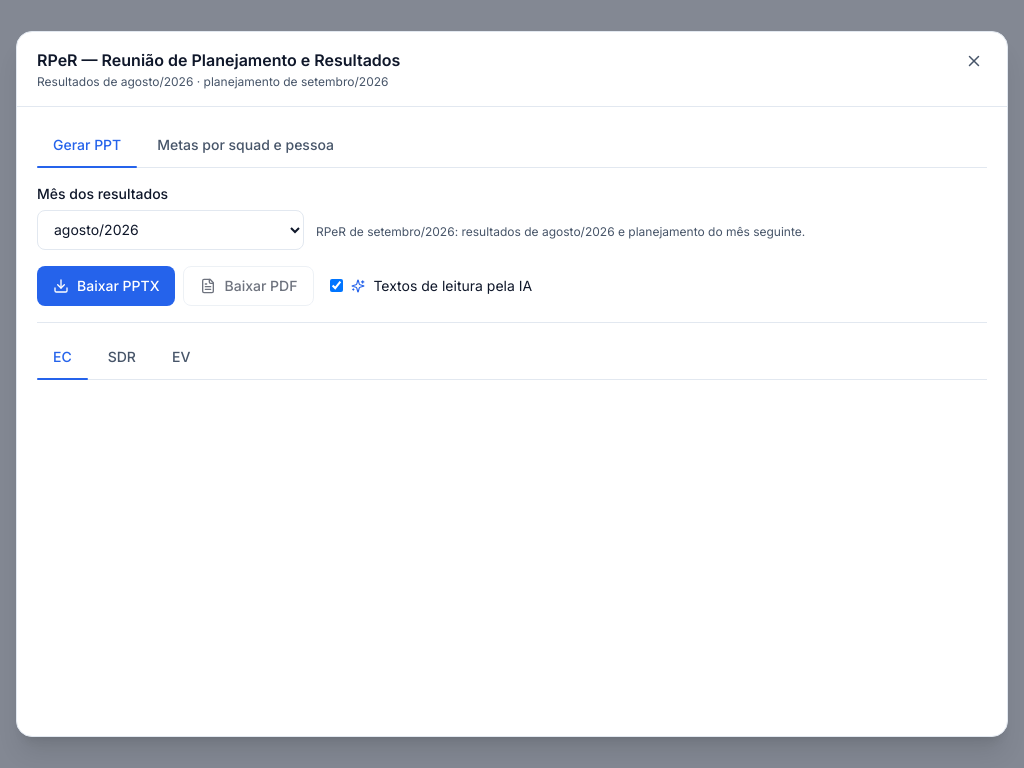
Scenario: RperMonitor — Metas › campo inválido trava o salvar
The image size is (1024, 768).
Click the tab with test id "tab-metas".
click(246, 145)  # box [141,123,350,167]
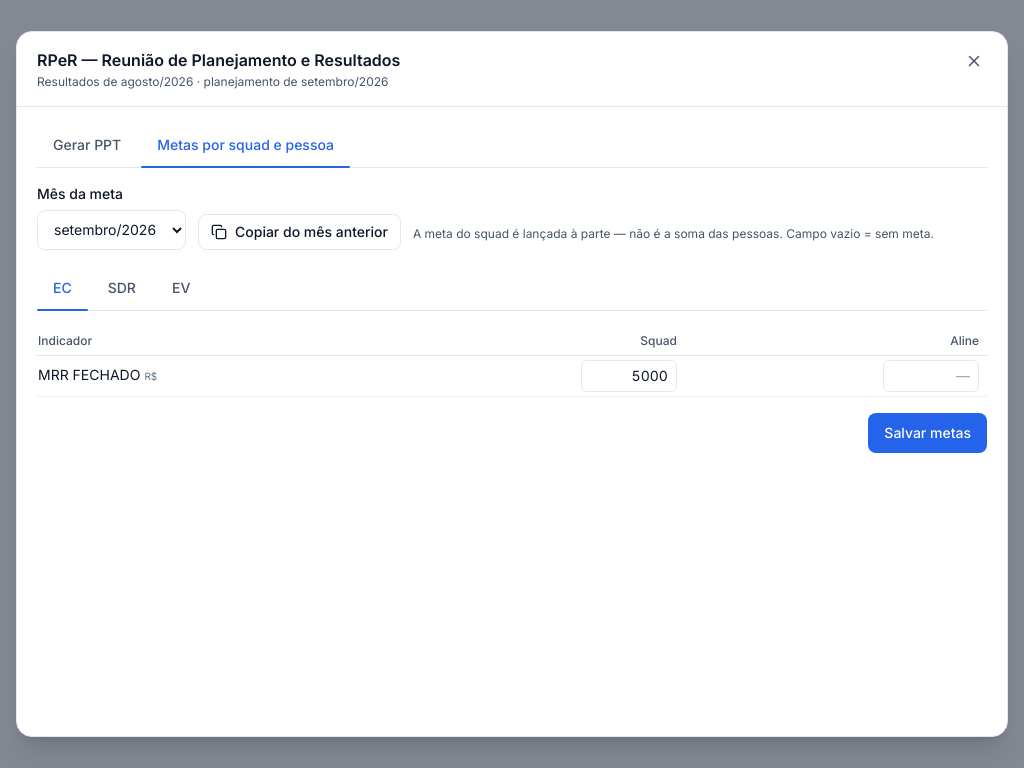
Replace the text in the field named "MRR FECHADO — squad" with "muito" at point(629, 376), box [581,360,677,392]
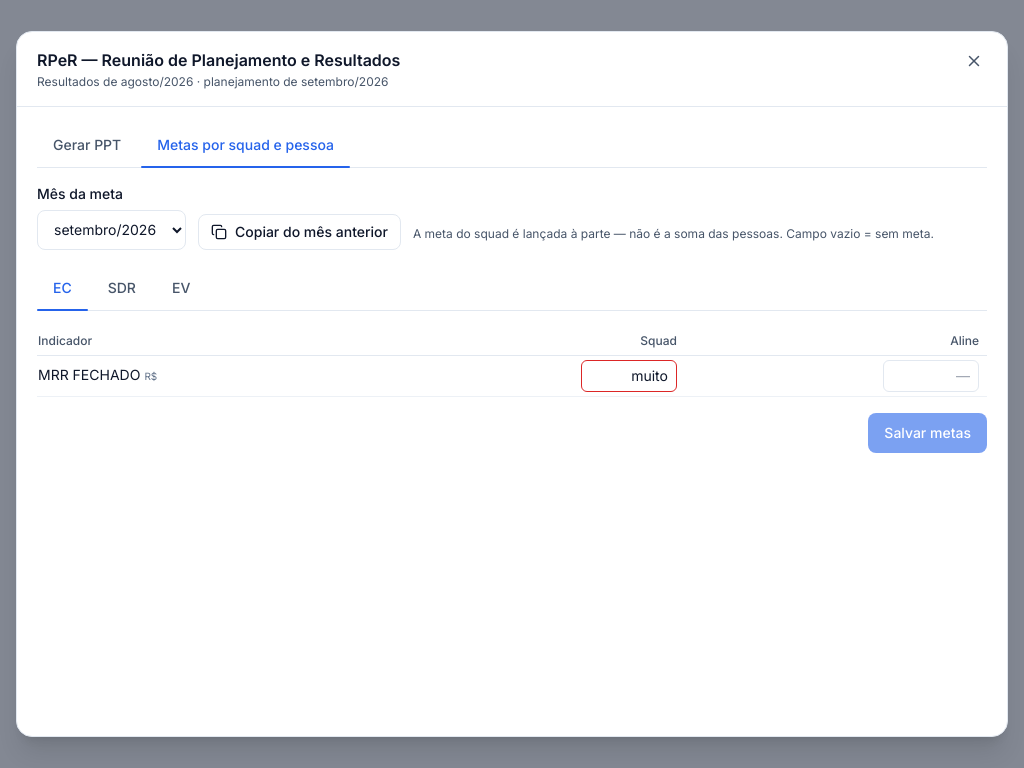
Check: the button "Salvar metas" is disabled, box [868,413,987,453]
